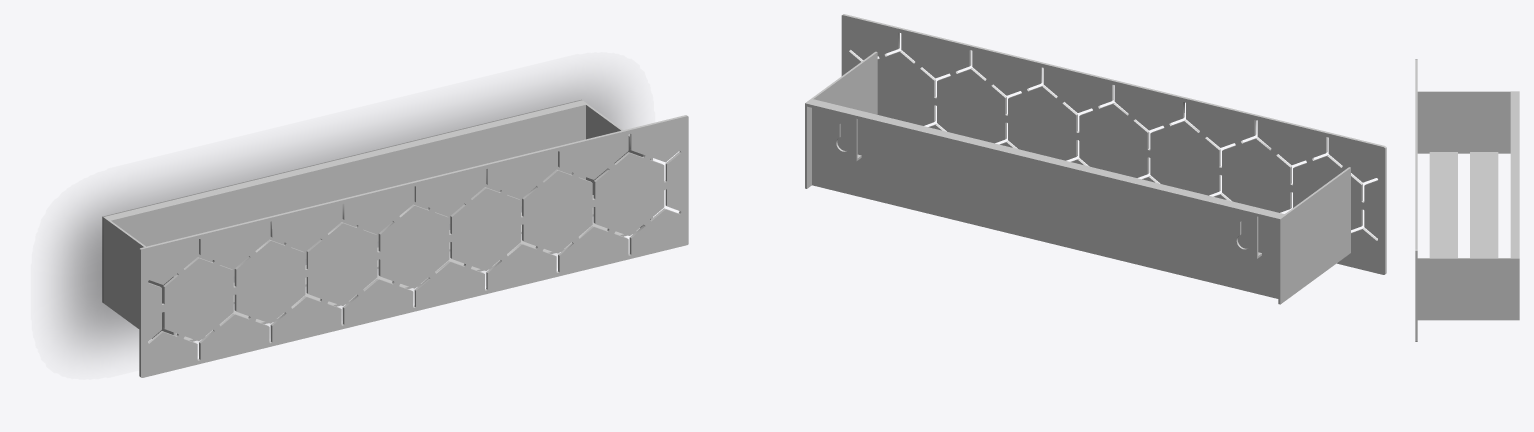
File: bee-mono.1f34c0db01.ar.glb
3 views of the same model, side by side, from view 1: azimuth 30°, elevation 25°; view 2: azimuth 150°, elevation 25°; view 3: azimuth 270°, elevation 25° (orthographic). The views are drawn at different scales.
Visible parts, largest first — view 1: NAUO1, object 2; view 2: NAUO1; view 3: NAUO1.
Boxes of the visible parts, x1,y1,x2,y2 form: NAUO1: (102,99,688,377); object 2: (57,82,627,349); NAUO1: (805,14,1386,304); NAUO1: (1415,59,1519,341).
Size of the model in its own units: 0.48 by 0.17 by 0.092.
2 materials, 1 textured.
